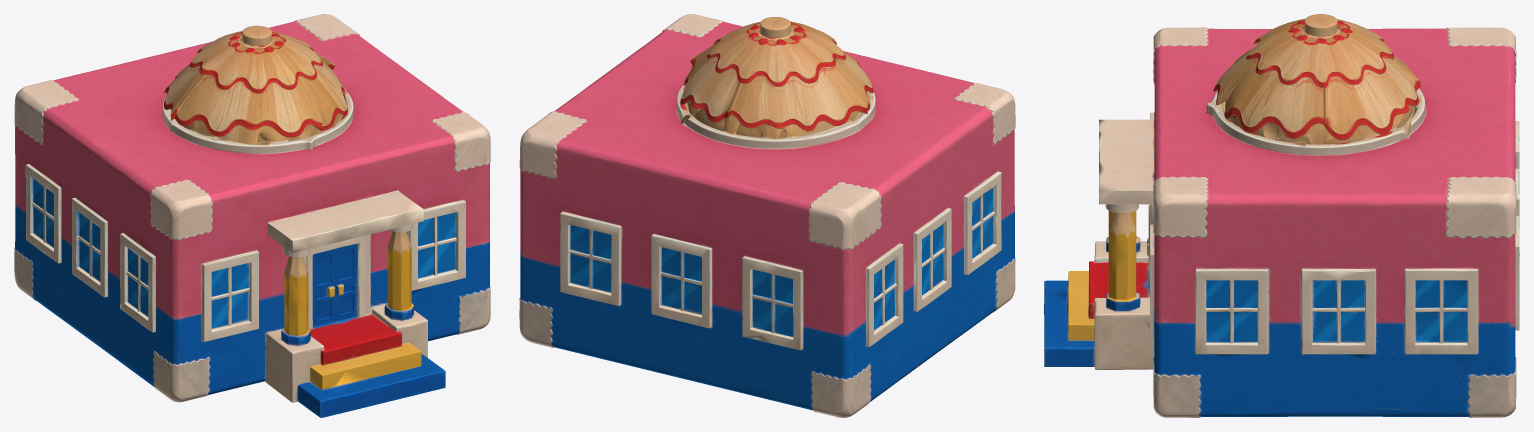
File: meshy.glb
The picture shows the model from 3 angles, left to right: view 1: azimuth 30°, elevation 25°; view 2: azimuth 150°, elevation 25°; view 3: azimuth 270°, elevation 25°; orthographic projection. The views are drawn at different scales.
Size of the model in its own units: 1.67 by 1.38 by 1.9.
1 material, 1 textured.
